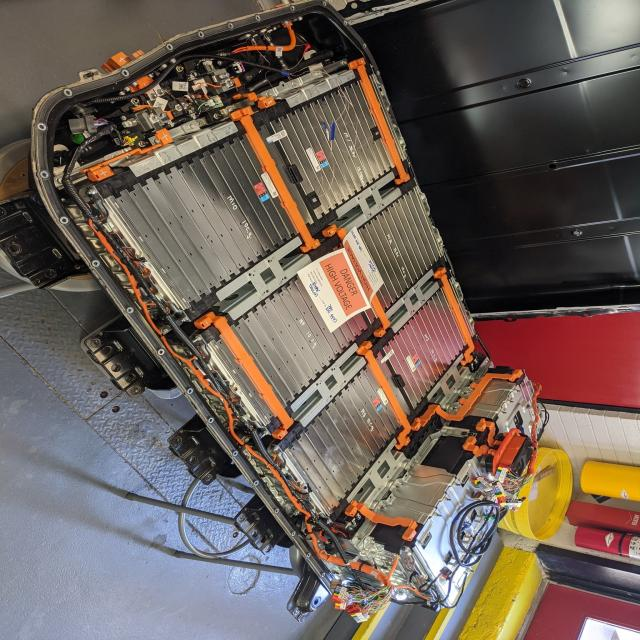Aluminum-frame: (215, 238, 316, 317), (129, 121, 240, 177), (292, 347, 368, 427), (334, 172, 402, 233), (349, 445, 409, 507), (390, 468, 455, 521), (386, 271, 441, 331), (427, 354, 473, 408), (285, 73, 355, 107), (470, 382, 513, 418)
Battery Module: (112, 141, 298, 309), (265, 84, 395, 222), (237, 266, 367, 402), (292, 370, 400, 507), (352, 192, 442, 309), (381, 293, 464, 406)
Bolt: (222, 72, 236, 88), (152, 112, 170, 122), (312, 68, 323, 78), (159, 326, 171, 334), (398, 591, 409, 599), (187, 123, 197, 130), (291, 80, 299, 88), (153, 138, 161, 145), (266, 91, 274, 97), (341, 59, 347, 67)
Bus-bar: (231, 107, 321, 252), (196, 312, 293, 438), (349, 58, 411, 184), (413, 369, 523, 430), (356, 342, 411, 449), (90, 128, 173, 180), (435, 268, 475, 366), (344, 501, 417, 541), (233, 93, 275, 109), (476, 418, 496, 446), (463, 437, 490, 456)
Cable: (87, 218, 393, 588), (528, 379, 542, 476)
Nut: (83, 186, 99, 198), (178, 313, 193, 324), (190, 335, 204, 345), (270, 441, 280, 455), (354, 535, 366, 544), (214, 112, 226, 119), (452, 480, 462, 488), (344, 520, 351, 530), (499, 410, 510, 416), (141, 140, 149, 148), (407, 463, 415, 471), (513, 387, 521, 395), (324, 519, 333, 526), (507, 398, 516, 405), (132, 98, 142, 104), (392, 484, 402, 490), (376, 505, 388, 510), (176, 65, 184, 72), (434, 511, 443, 517), (449, 406, 458, 411), (462, 390, 469, 396), (446, 496, 452, 502), (222, 52, 228, 57), (471, 377, 478, 381)
Screw: (459, 430, 475, 437), (120, 115, 128, 121), (218, 60, 224, 66), (166, 88, 172, 93), (191, 106, 195, 111)
